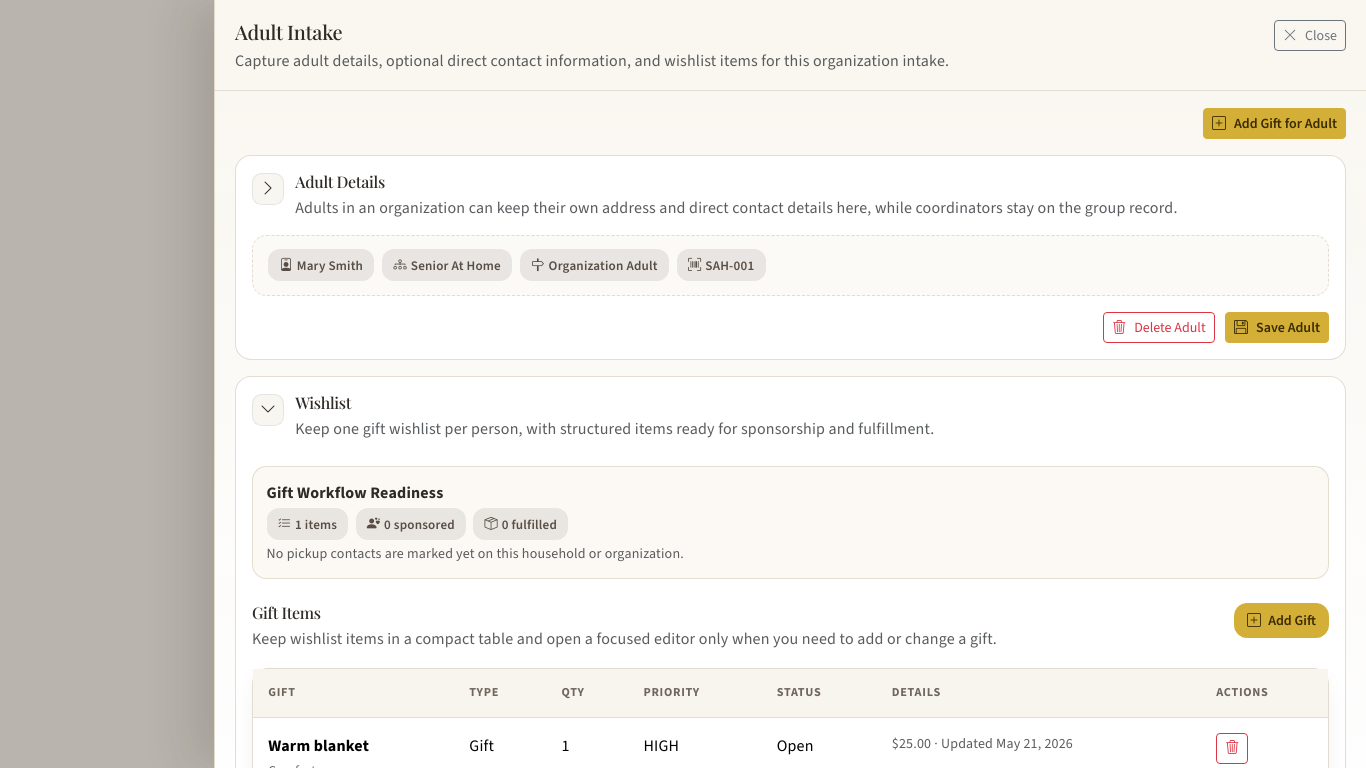
Test: CampaignPeopleRecipientDrawer › starts profile collapsed on edit, keeps wishlist metadata collapsed, and edits gifts in a modal
Expected: the field labelled "Intake Method" is not shown
Expected: the field labelled "Wishlist Status" is not shown
Step 1. Click the button named "Expand person details" → (268, 189), box [252,173,284,205]
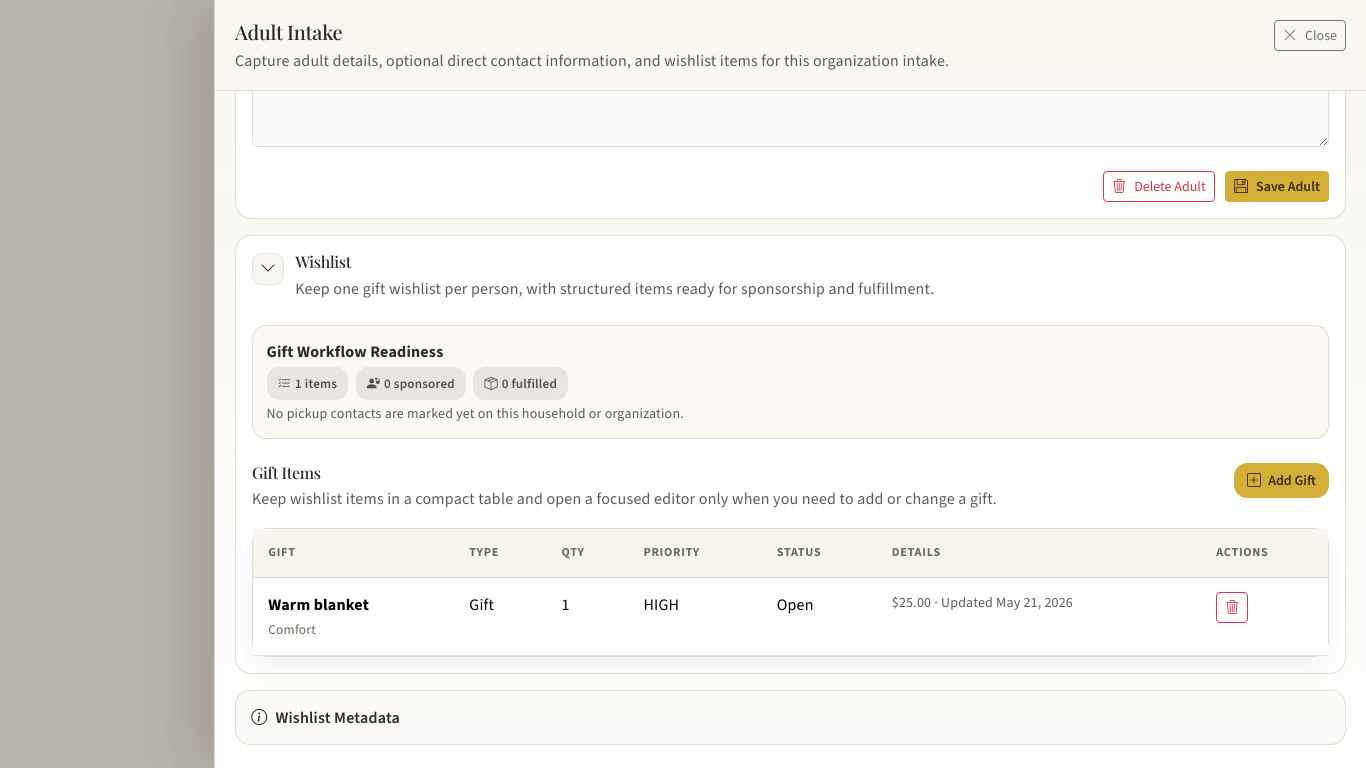
Step 2. Click the heading "Wishlist Metadata" → (326, 718), box [251,705,400,730]
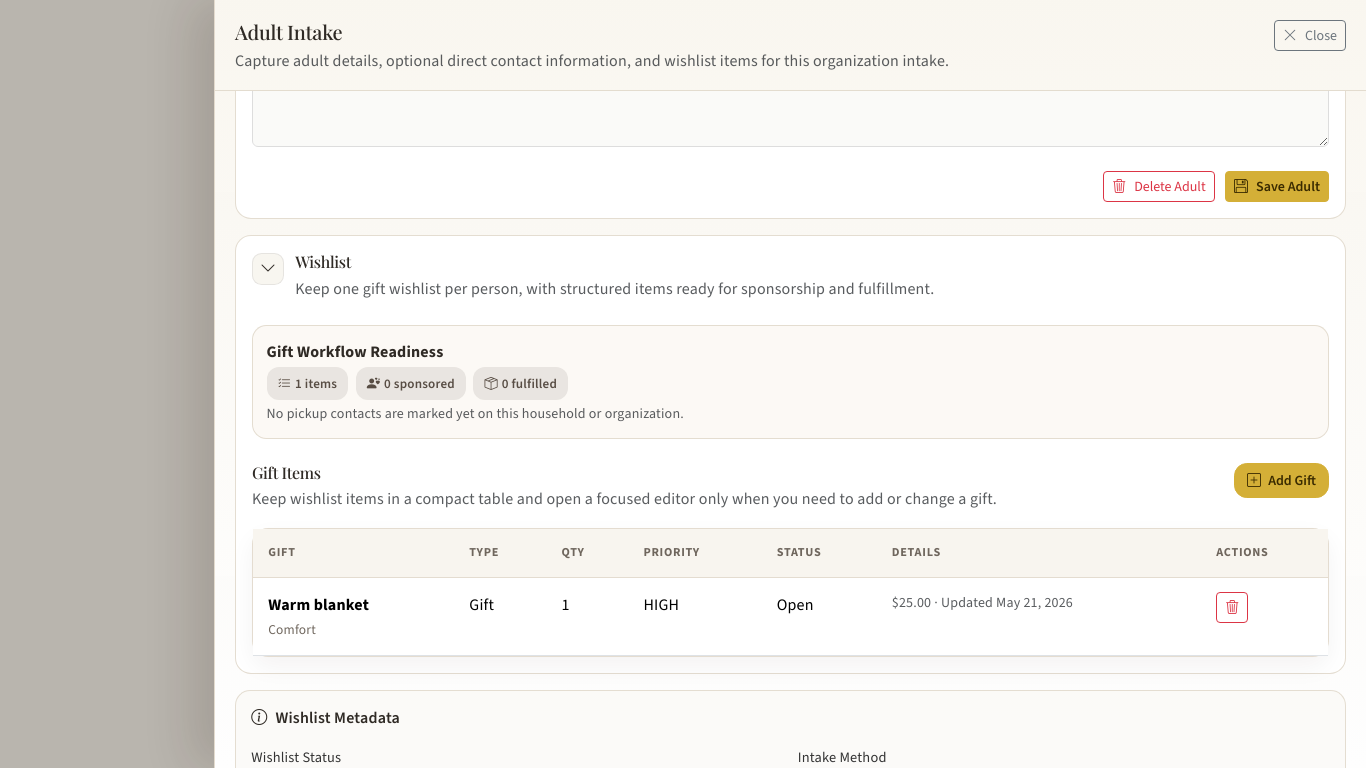
Step 3. Click the button "Warm blanket" → (790, 616), box [253,577,1328,656]
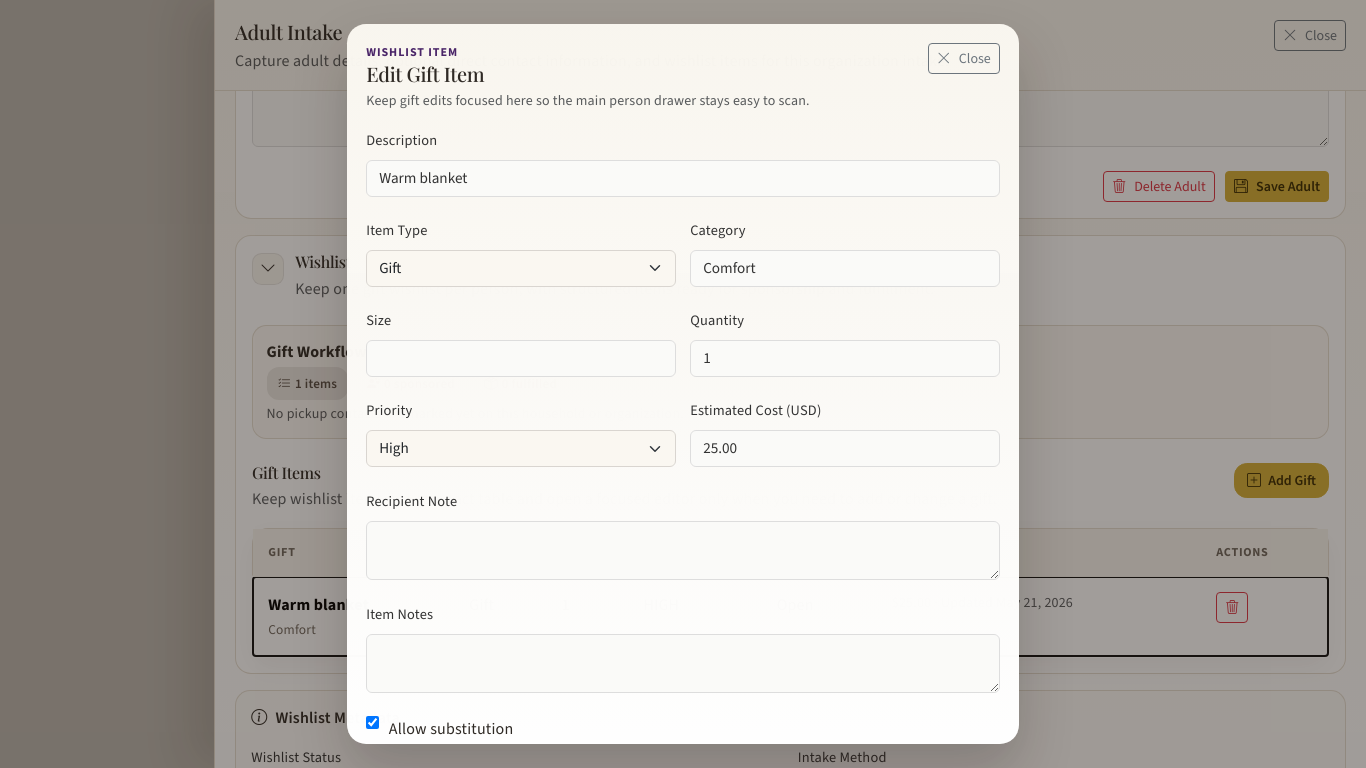
Now the heading "Edit Gift Item" is shown, box [366,60,484,87]
Now the field labelled "Description" holds "Warm blanket", box [366,160,1000,197]
